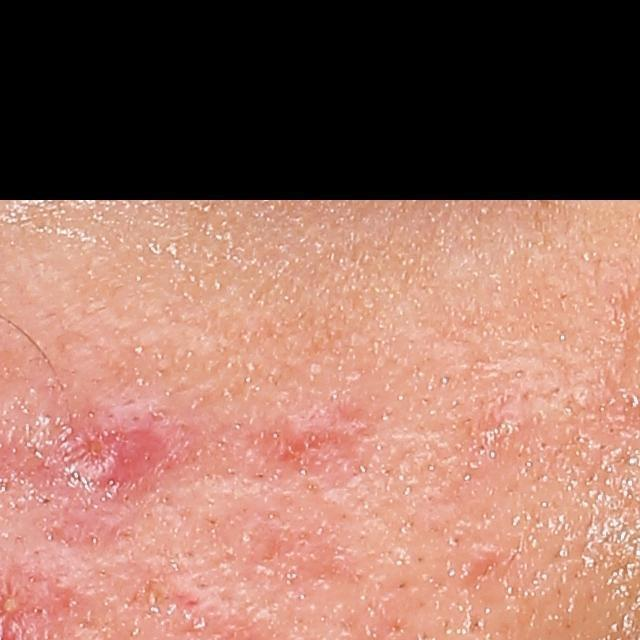papule: (45, 394, 176, 501), (268, 410, 335, 460)
